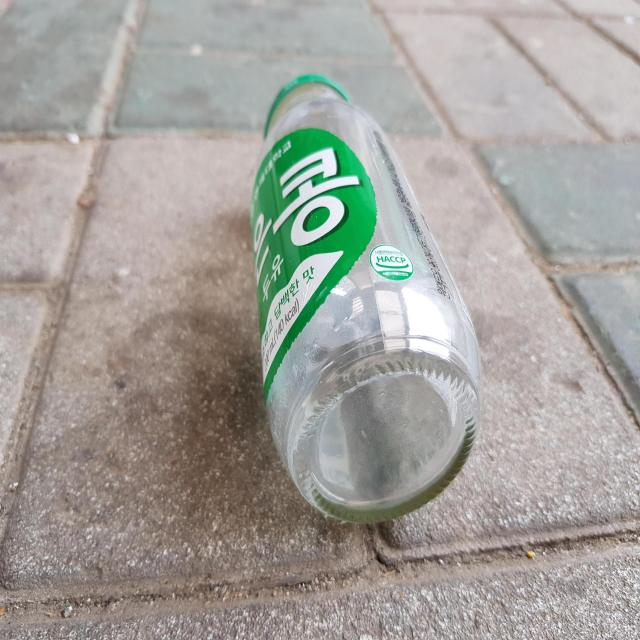glass: (250, 74, 482, 522)
